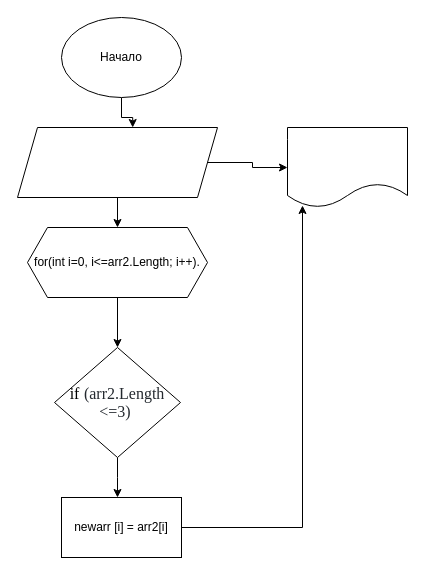
The diagram is 425 pixels wide and 575 high, and some of its shapes have lost their labels. The shapes that lost their labels are listed below. From the top down, each one's centre as x and y in pixels, then its label:
the point at 117,162: Введите данные через , string[] manualInputArray
the point at 347,167: Вывод массива
